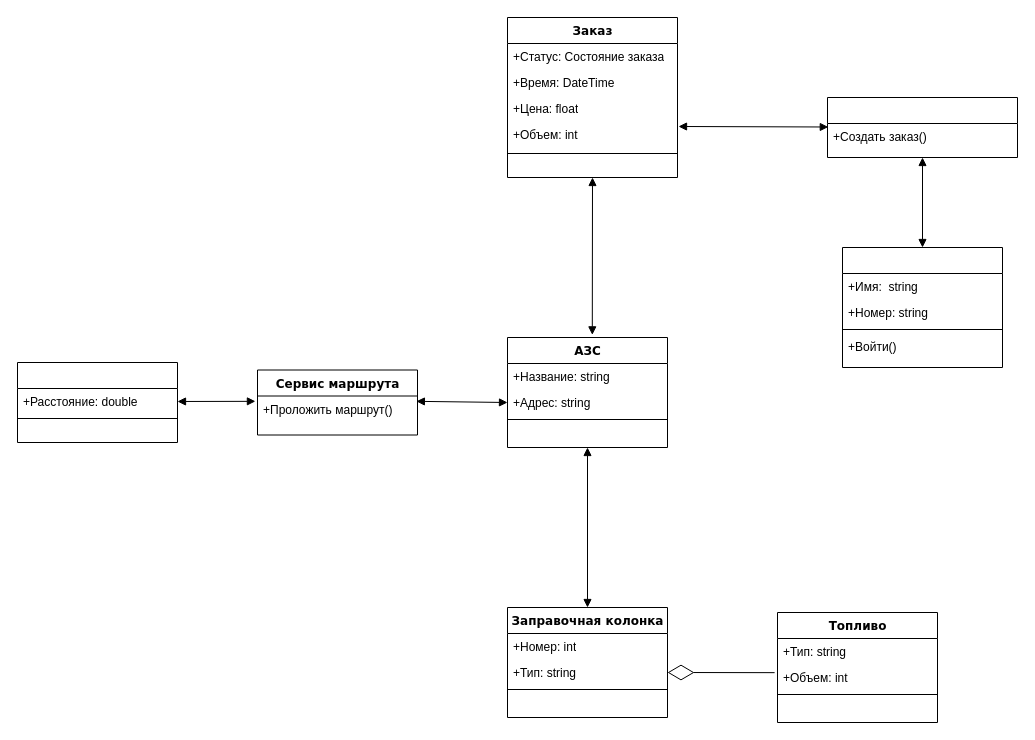
Some shapes in this 1035 by 740 pixel diagram are drawn without their labels. Here are the shapes that lost their labels. From the top down, the box of each, then its label:
(826, 96, 1018, 158): Сервис создания заказов
(842, 246, 1002, 368): Пользователь
(16, 362, 178, 442): Маршрут
